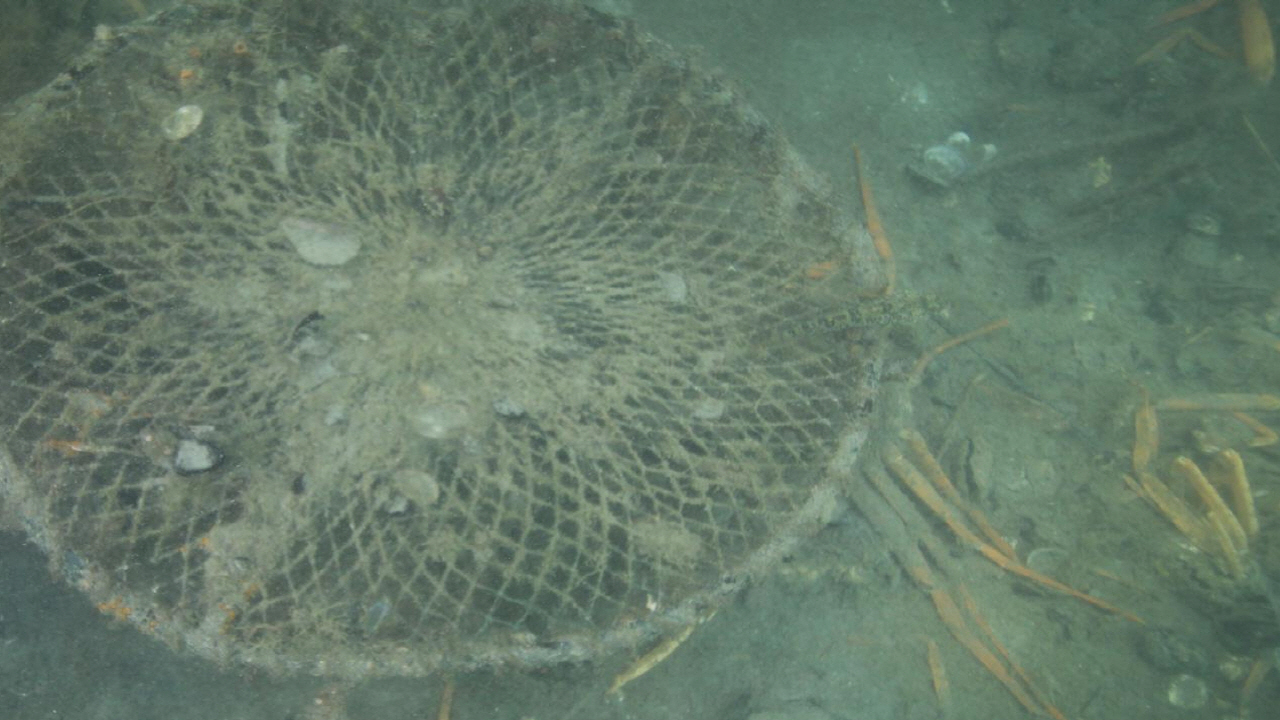circular fish trap: (0, 0, 886, 678)
